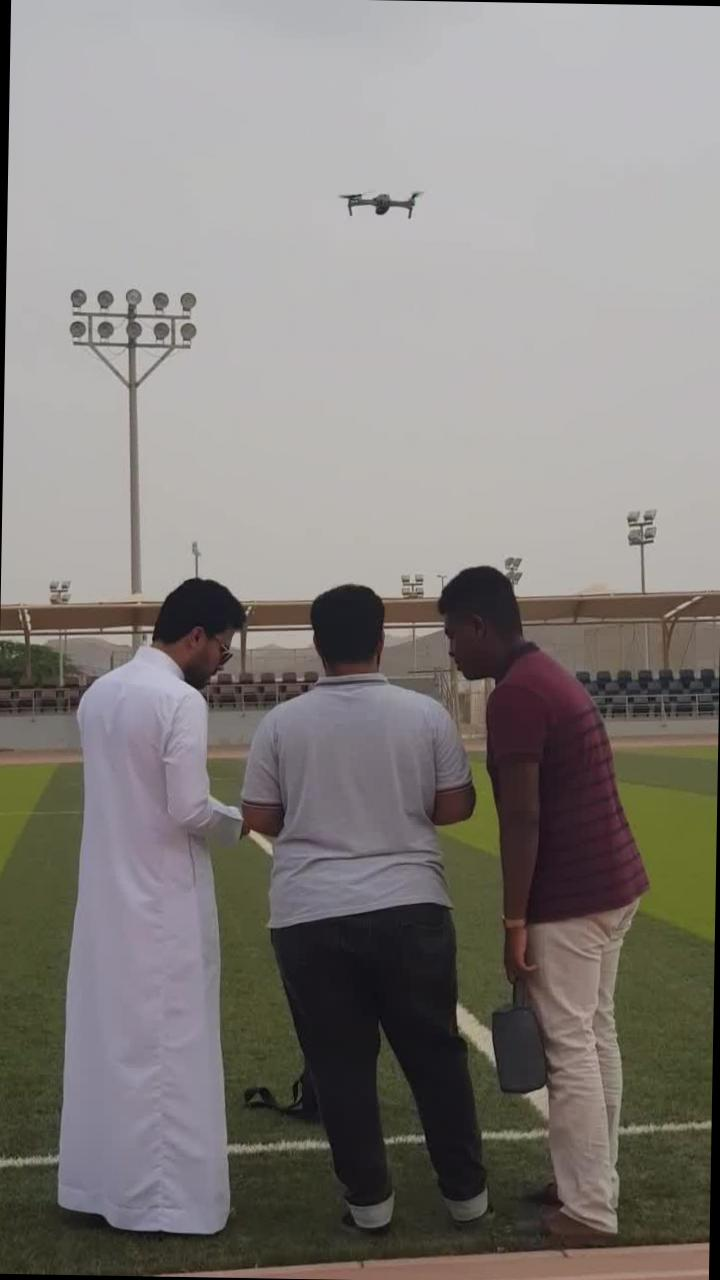drone: (333, 185, 423, 218)
